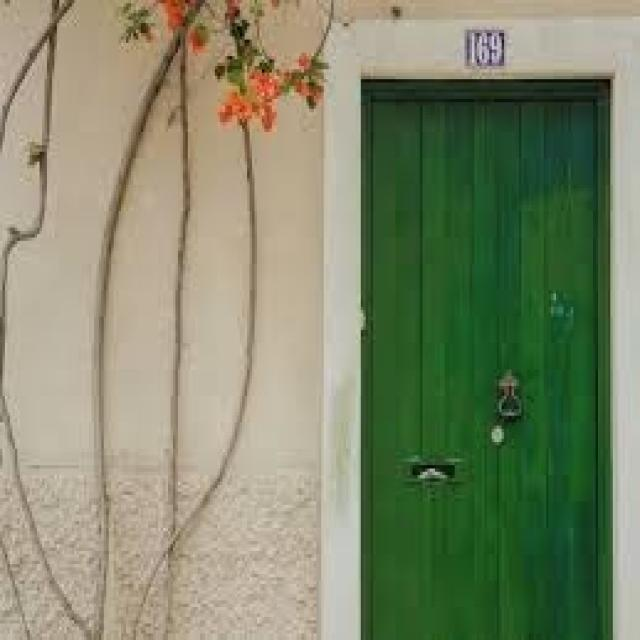door: (359, 79, 612, 640)
